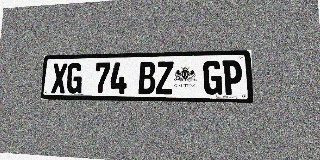4: (110, 62, 127, 94)
7: (94, 62, 110, 94)
B: (138, 62, 156, 94)
G: (203, 60, 222, 95), (66, 63, 83, 94)
P: (222, 60, 243, 95)
X: (51, 63, 67, 93)
Z: (156, 61, 173, 94)
